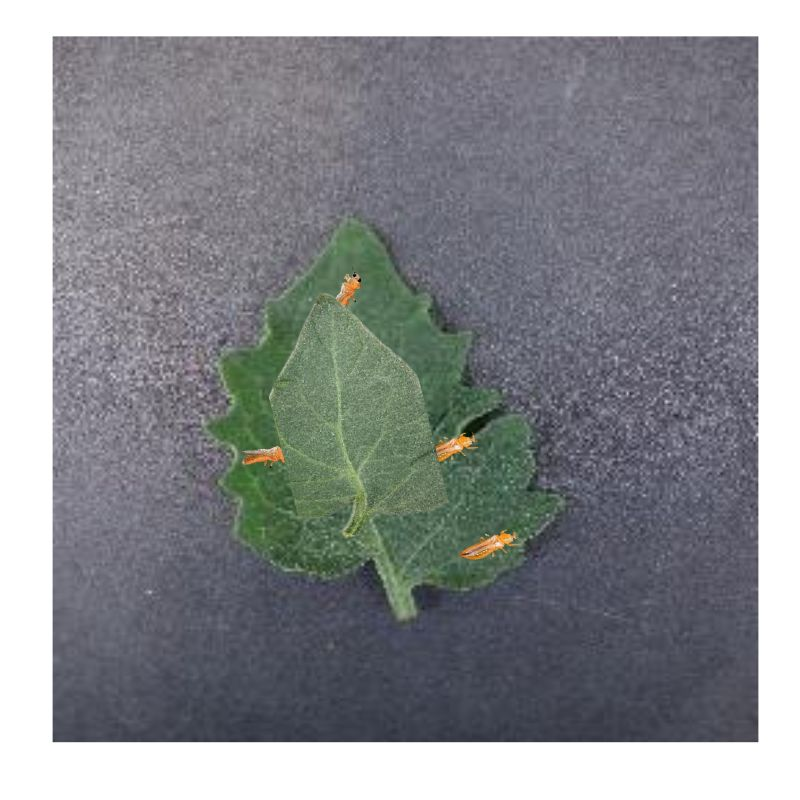thrips: (459, 524, 519, 560), (432, 430, 479, 462), (240, 444, 285, 467), (335, 269, 362, 307)
